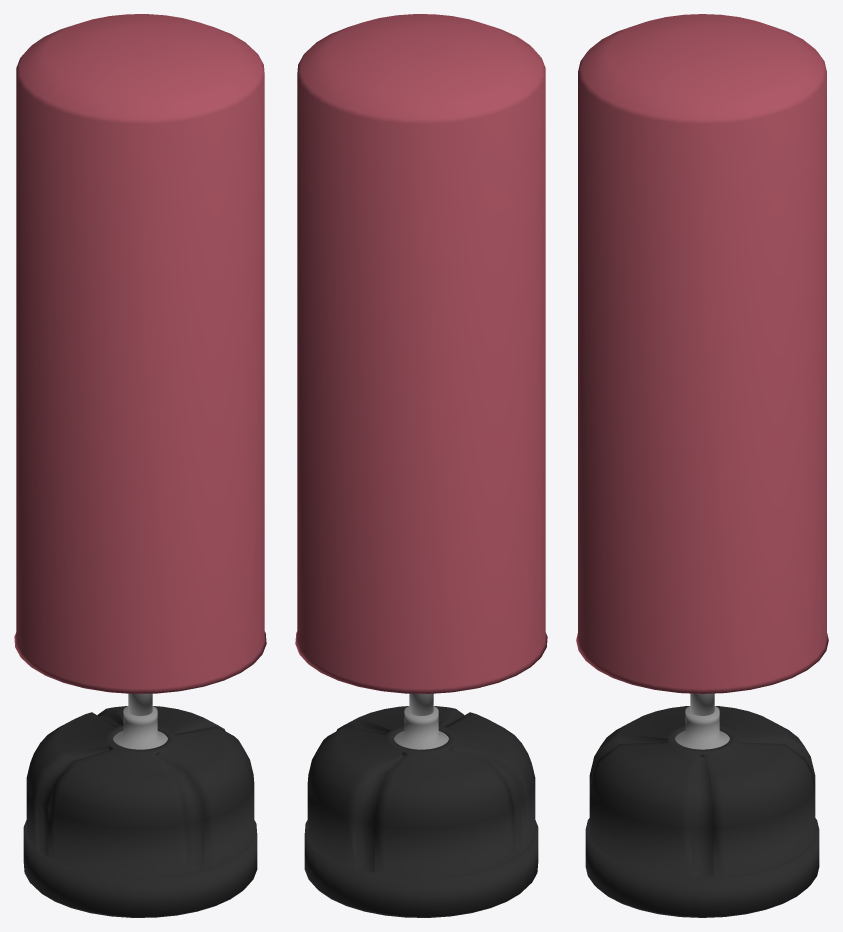
File: strike_target.fbx
3 renders of one model, left to right at view 1: azimuth 30°, elevation 25°; view 2: azimuth 150°, elevation 25°; view 3: azimuth 270°, elevation 25°, orthographic.
Parts seen in each view (by area): view 1: Cylinder.009, Cylinder, Cylinder.001, Cylinder.008; view 2: Cylinder.009, Cylinder, Cylinder.001, Cylinder.008; view 3: Cylinder.009, Cylinder, Cylinder.001, Cylinder.008.
Boxes of the visible parts, x1=… form: Cylinder.009: x1=14, y1=14, x2=266, y2=693; Cylinder: x1=23, y1=706, x2=257, y2=917; Cylinder.001: x1=113, y1=706, x2=167, y2=749; Cylinder.008: x1=128, y1=693, x2=152, y2=715; Cylinder.009: x1=295, y1=14, x2=547, y2=693; Cylinder: x1=304, y1=706, x2=538, y2=917; Cylinder.001: x1=394, y1=706, x2=448, y2=749; Cylinder.008: x1=409, y1=693, x2=433, y2=715; Cylinder.009: x1=576, y1=14, x2=828, y2=693; Cylinder: x1=585, y1=706, x2=819, y2=917; Cylinder.001: x1=675, y1=706, x2=729, y2=749; Cylinder.008: x1=690, y1=693, x2=714, y2=715.
Size of the model in its own units: 51.65 by 186 by 51.65.
